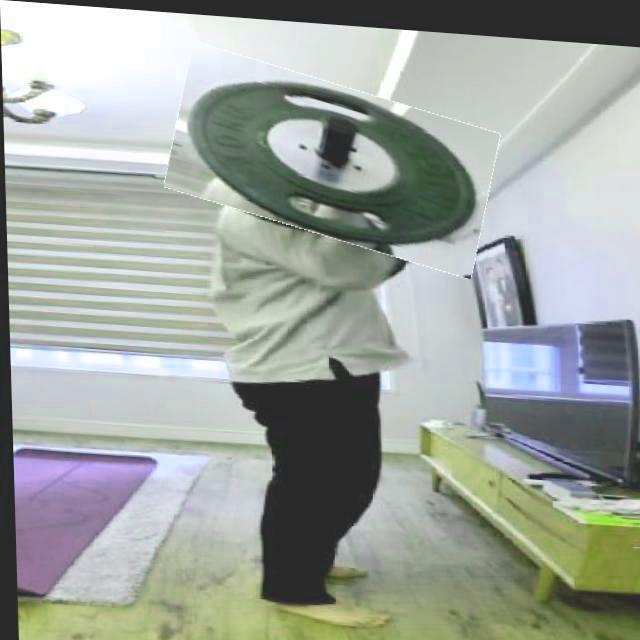barbell: (167, 54, 497, 257)
